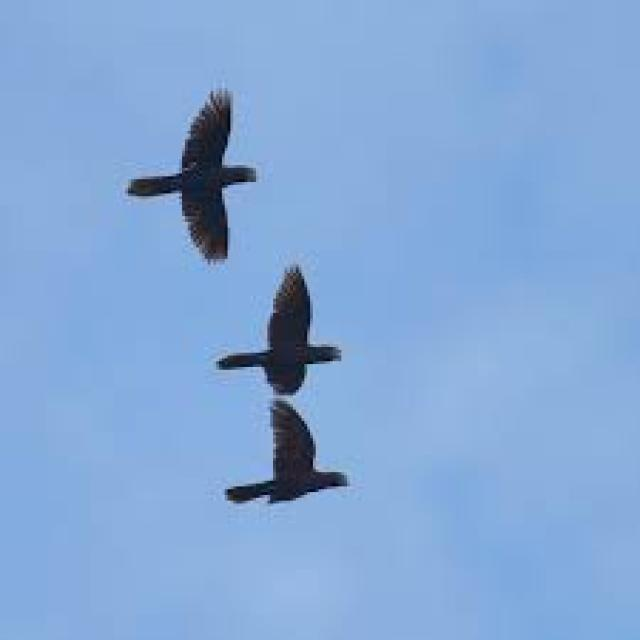Nuri Hitam: (96, 74, 271, 280), (205, 398, 394, 540), (194, 264, 362, 404)
